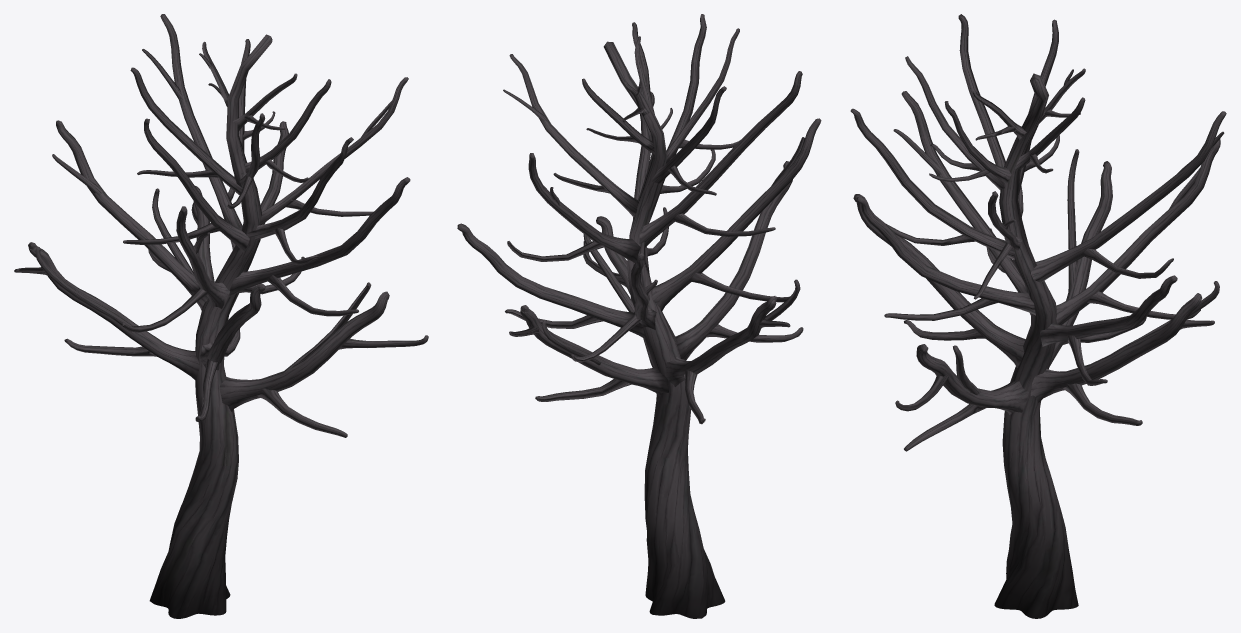
Rendered from DeadTree_1.glb.
3 renders of one model, left to right at view 1: azimuth 30°, elevation 25°; view 2: azimuth 150°, elevation 25°; view 3: azimuth 270°, elevation 25°, orthographic. The views are drawn at different scales.
Parts seen in each view (by area): view 1: DeadTree_1; view 2: DeadTree_1; view 3: DeadTree_1.
Boxes of the visible parts, left/top/right/bottom form: DeadTree_1: left=14, top=14, right=428, bottom=618; DeadTree_1: left=457, top=14, right=821, bottom=618; DeadTree_1: left=850, top=14, right=1226, bottom=618.
Bounding box in the file's own units: 6.15 × 9.5 × 5.75.
1 material, 1 textured.
